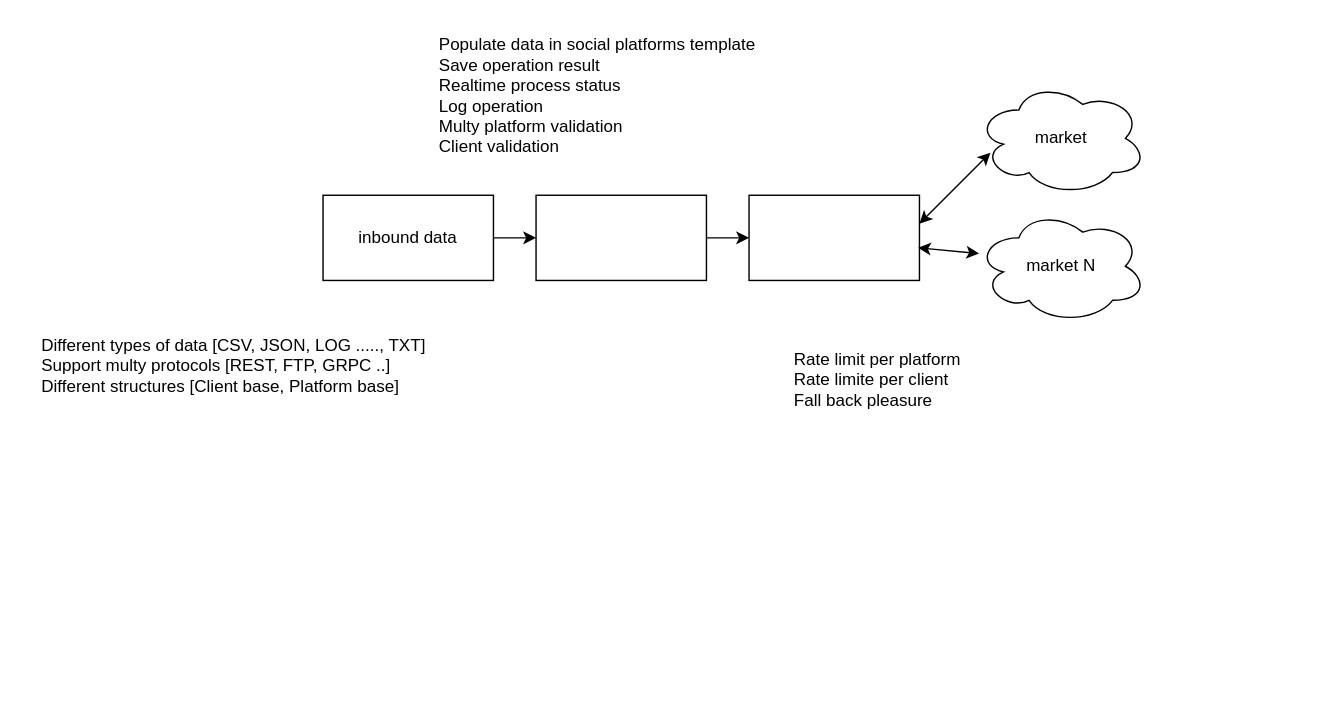
Image size: 1326x701. Some labels were removed from this diagram. The shapes that lost their labels are listed below. From the top down, each one's centre as x and y in pixels, then its label:
point (620, 237): processing data
point (833, 237): outbound data
